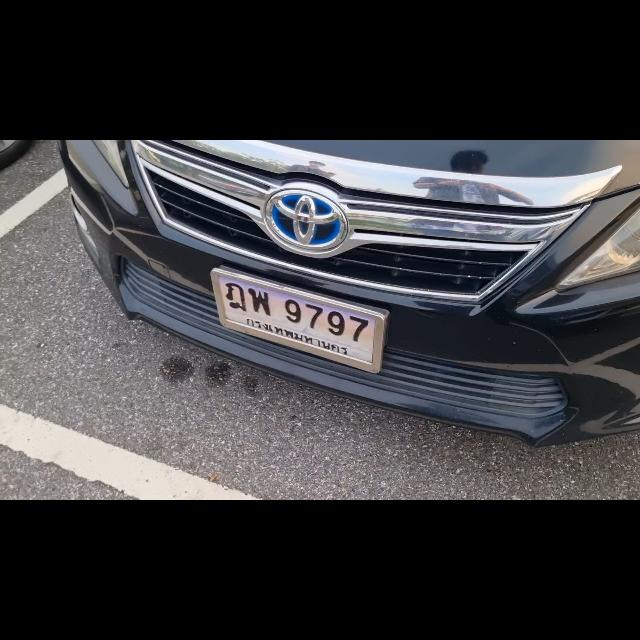licenseplate: (208, 267, 386, 377)
